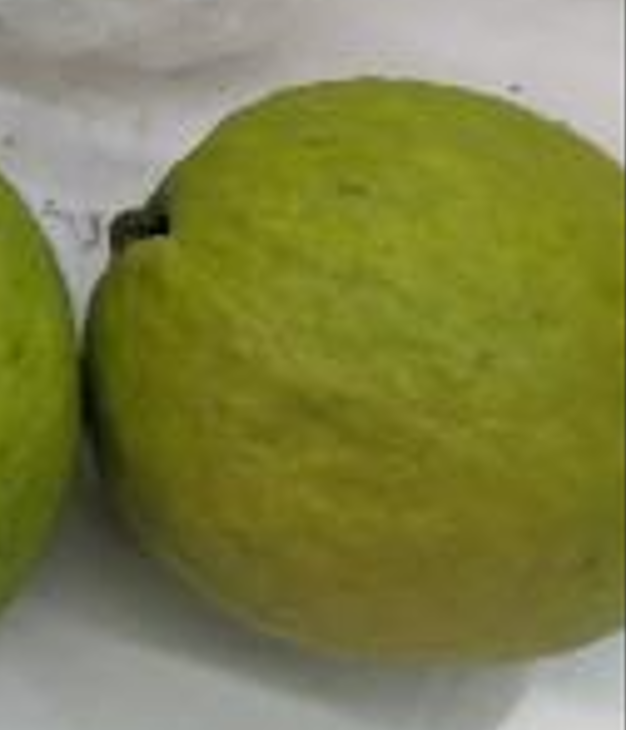guava_A: (82, 79, 626, 665)
